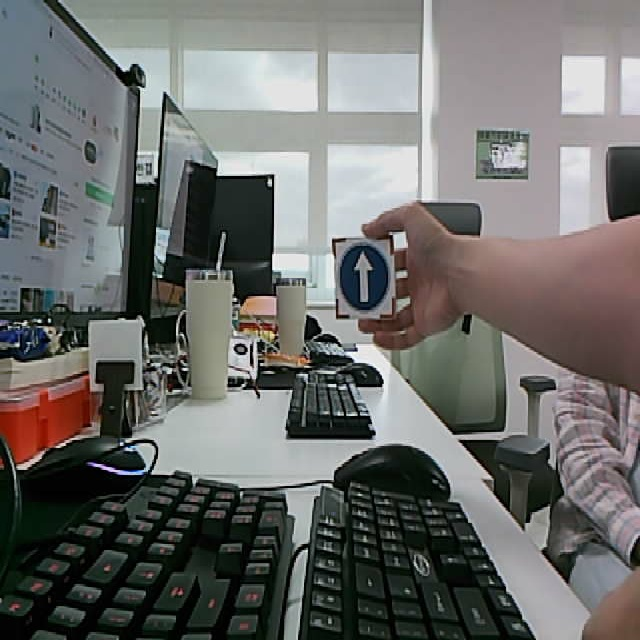straight: (332, 236, 395, 320)
